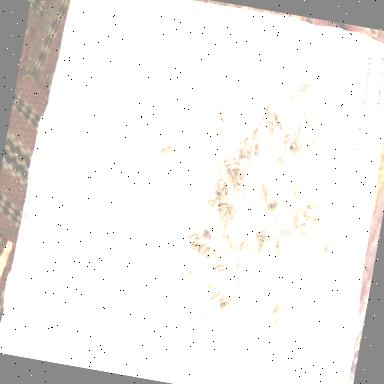pbw: (254, 179, 274, 215), (265, 152, 288, 178), (303, 210, 326, 235), (155, 136, 177, 162), (214, 124, 233, 154), (233, 271, 252, 301), (202, 269, 221, 298), (294, 82, 312, 112), (287, 178, 305, 207), (274, 117, 294, 143), (268, 310, 288, 336), (315, 238, 332, 268), (186, 231, 204, 259), (210, 256, 228, 284), (286, 140, 304, 168), (225, 203, 242, 232), (268, 295, 286, 322), (198, 240, 216, 267), (213, 101, 230, 129), (214, 153, 229, 183), (248, 118, 264, 146), (244, 142, 258, 174), (213, 212, 230, 238), (304, 156, 324, 178), (193, 306, 212, 329), (298, 108, 316, 132), (222, 168, 240, 192), (177, 266, 195, 290), (284, 84, 302, 108), (208, 190, 223, 218), (218, 291, 234, 317), (266, 244, 282, 270), (256, 106, 273, 130), (266, 185, 282, 210), (209, 174, 228, 195), (251, 294, 269, 316), (234, 152, 252, 174), (227, 252, 241, 280), (232, 252, 246, 280), (220, 149, 237, 172), (310, 124, 325, 150), (272, 236, 287, 262), (235, 127, 251, 151), (302, 195, 321, 215), (208, 284, 225, 306), (232, 186, 246, 212), (238, 106, 255, 127), (306, 118, 322, 140), (209, 246, 225, 268), (302, 136, 318, 158), (255, 236, 268, 263), (294, 197, 312, 216), (295, 76, 312, 96), (291, 222, 311, 239), (244, 194, 258, 217), (269, 214, 285, 234), (232, 138, 248, 158), (300, 101, 318, 118), (198, 227, 216, 244), (252, 143, 264, 168), (234, 172, 248, 193), (193, 242, 209, 260), (278, 225, 294, 243), (294, 122, 306, 146), (241, 136, 252, 162), (262, 227, 277, 246), (290, 208, 304, 228), (253, 228, 267, 248), (296, 228, 310, 248), (215, 200, 232, 216), (236, 236, 252, 252), (238, 198, 254, 214), (264, 204, 280, 220), (282, 129, 295, 148), (203, 195, 216, 213), (264, 119, 276, 138), (219, 234, 232, 251), (275, 105, 284, 129), (283, 138, 292, 162), (248, 240, 262, 255), (262, 98, 272, 119), (226, 242, 242, 255), (219, 192, 232, 206), (269, 106, 279, 124), (254, 134, 264, 152), (225, 232, 237, 246), (287, 140, 298, 150)
